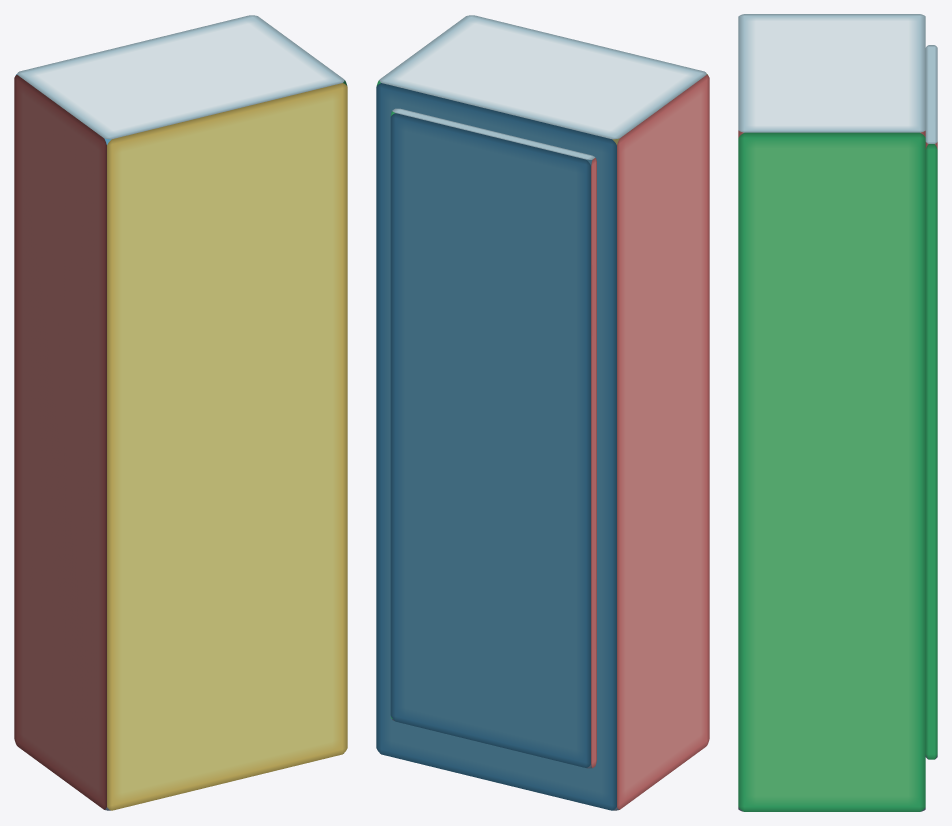
File: locker.obj
3 views of the same model, side by side, from view 1: azimuth 30°, elevation 25°; view 2: azimuth 150°, elevation 25°; view 3: azimuth 270°, elevation 25° (orthographic).
Visible parts, largest first — view 1: body; view 2: door, body; view 3: body, door.
Part boxes in pixels (bbox=[...]): body: bbox=[14, 15, 347, 810]; door: bbox=[390, 108, 596, 768]; body: bbox=[376, 15, 709, 810]; body: bbox=[738, 14, 925, 811]; door: bbox=[925, 45, 937, 759].
Size of the model in its own units: 0.75 by 2 by 0.5312.
Materials: 1 (1 with a texture image).
